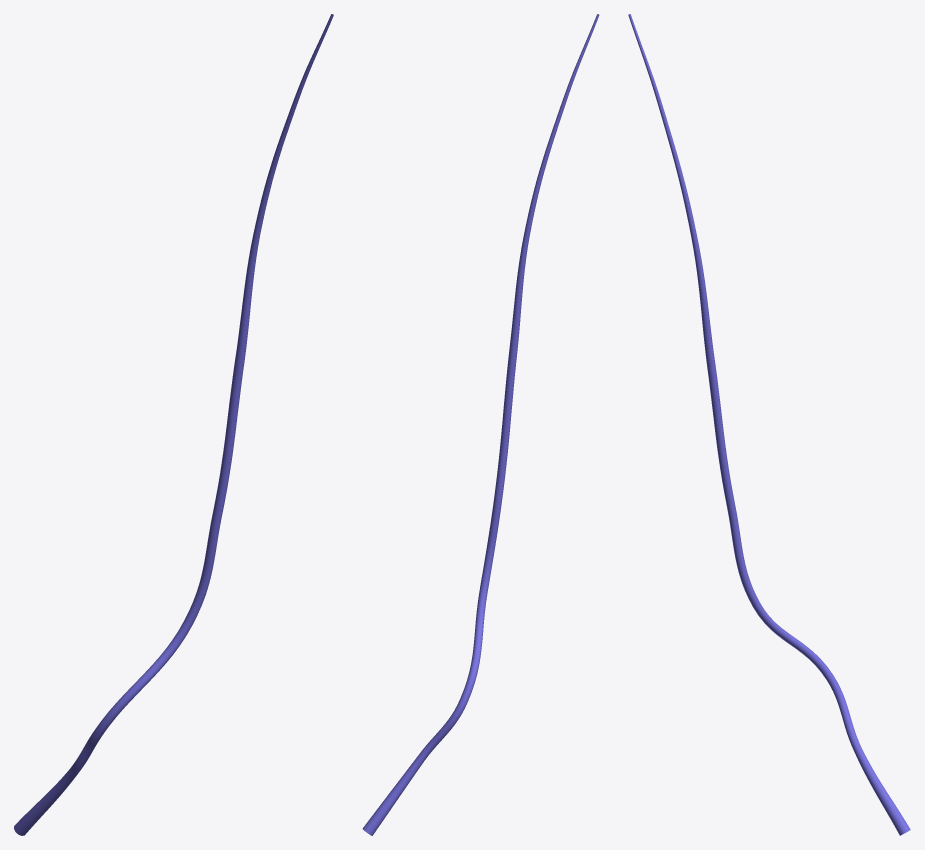
File: Inferior_epigastric_vein.l_BezierCurve.416.glb
3 views of the same model, side by side, from view 1: azimuth 90°, elevation 25°; view 2: azimuth 150°, elevation 25°; view 3: azimuth 270°, elevation 25° (orthographic). The views are drawn at different scales.
Parts seen in each view (by area): view 1: Inferior_epigastric_vein.l_BezierCurve.416; view 2: Inferior_epigastric_vein.l_BezierCurve.416; view 3: Inferior_epigastric_vein.l_BezierCurve.416.
Boxes of the visible parts, box(x1,y1,x2,y2) form: Inferior_epigastric_vein.l_BezierCurve.416: box(14, 14, 333, 835); Inferior_epigastric_vein.l_BezierCurve.416: box(362, 14, 599, 835); Inferior_epigastric_vein.l_BezierCurve.416: box(628, 14, 910, 835).
Bounding box in the file's own units: 0.0289 × 0.1996 × 0.0661.
